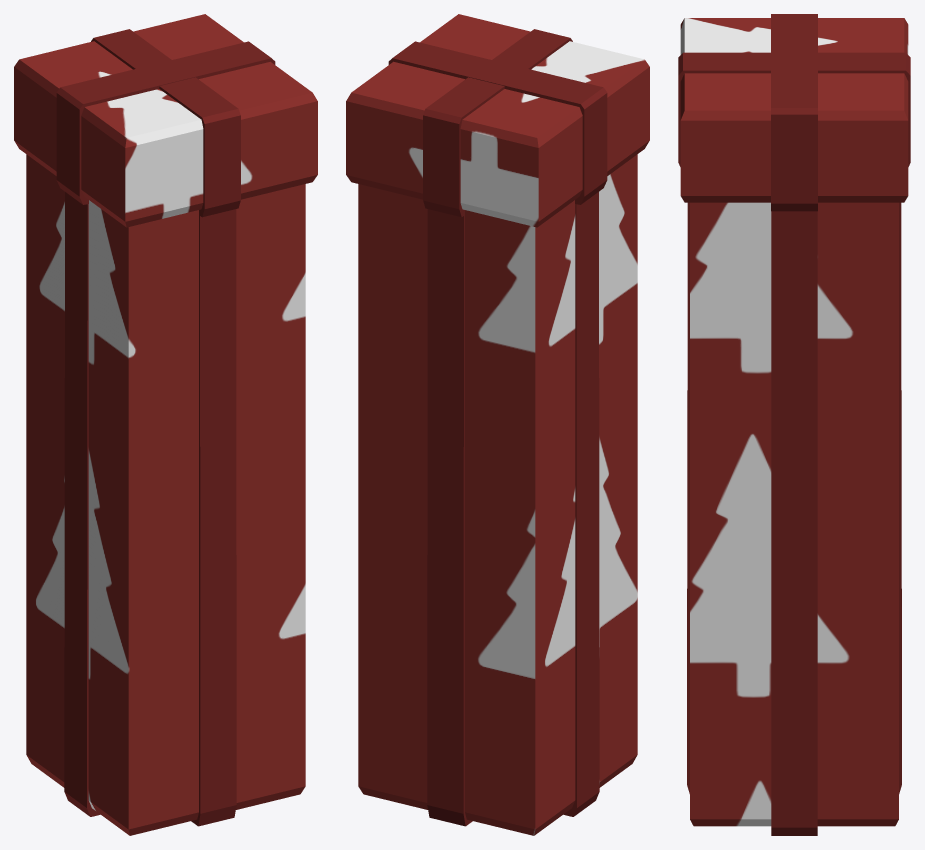
The model's file is PresentBox_SquareTall_02.fbx.
3 views of the same model, side by side, from view 1: azimuth 30°, elevation 25°; view 2: azimuth 150°, elevation 25°; view 3: azimuth 270°, elevation 25° (orthographic). The views are drawn at different scales.
Parts seen in each view (by area): view 1: PresentBox_SquareTall_02, PresentBox_SquareTall_02_Top; view 2: PresentBox_SquareTall_02, PresentBox_SquareTall_02_Top; view 3: PresentBox_SquareTall_02, PresentBox_SquareTall_02_Top.
Boxes of the visible parts, x1=… form: PresentBox_SquareTall_02: x1=26, y1=154, x2=305, y2=835; PresentBox_SquareTall_02_Top: x1=14, y1=14, x2=317, y2=227; PresentBox_SquareTall_02: x1=358, y1=154, x2=637, y2=835; PresentBox_SquareTall_02_Top: x1=346, y1=14, x2=649, y2=227; PresentBox_SquareTall_02: x1=687, y1=202, x2=901, y2=835; PresentBox_SquareTall_02_Top: x1=678, y1=14, x2=910, y2=211.
Size of the model in its own units: 0.1331 by 0.4642 by 0.1335.
